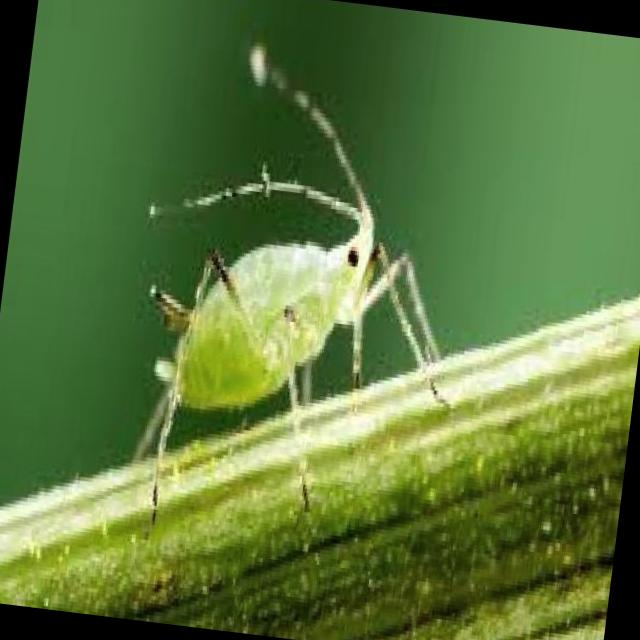aphid: (72, 50, 504, 560)
